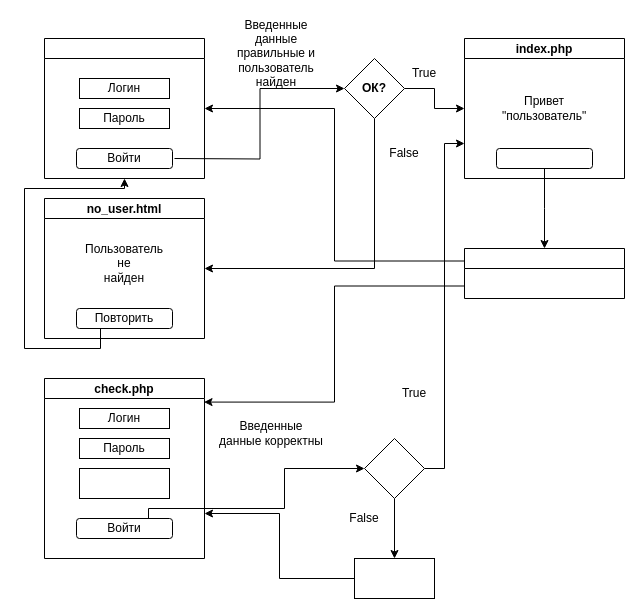
Image size: 642x616. Some labels were removed from this diagram. Here are the shapes that lost their labels. From the top down, the box of each, then its label:
(44, 38, 204, 178): login.php
(496, 148, 592, 168): Выйти
(464, 248, 624, 298): exit.php
(78, 468, 170, 498): подтверждение пароля
(364, 438, 424, 498): OK?
(354, 558, 434, 598): Сообщение об ошибке
